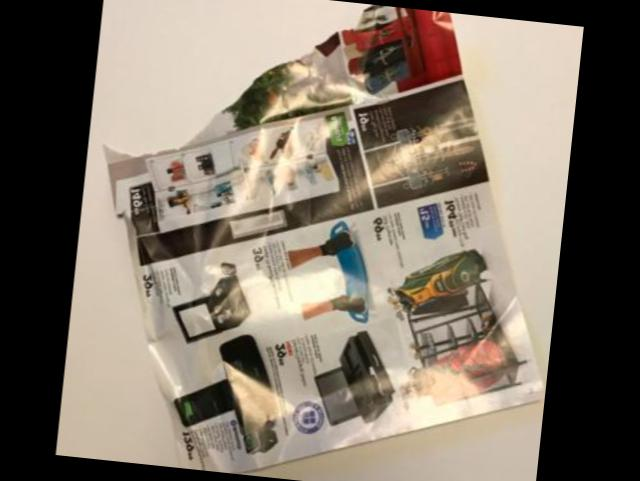cardboard paper: (104, 4, 540, 472)
